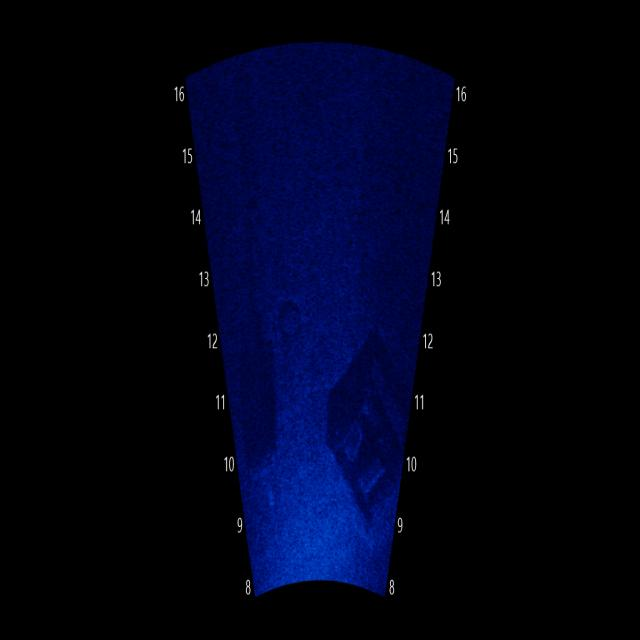square: (318, 324, 414, 538)
